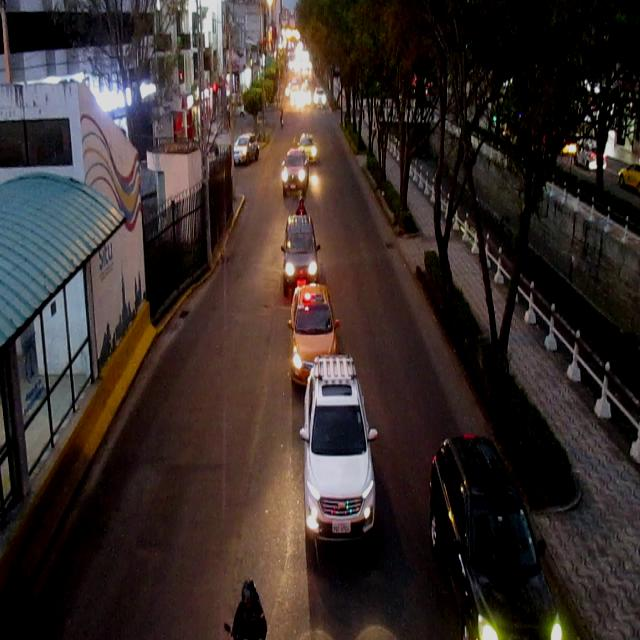SUV: (300, 354, 378, 547), (278, 211, 321, 291)
